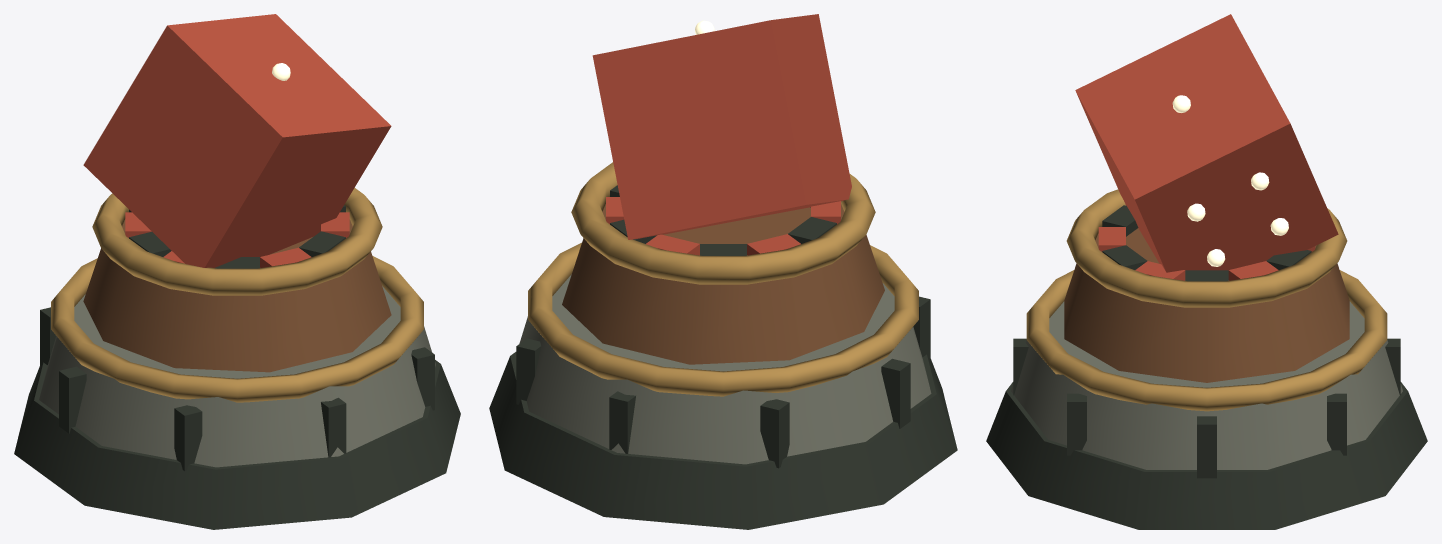
Rendered from tower_gamble_gambleHigh.glb.
3 views of the same model, side by side, from view 1: azimuth 30°, elevation 25°; view 2: azimuth 150°, elevation 25°; view 3: azimuth 270°, elevation 25° (orthographic). The views are drawn at different scales.
Parts seen in each view (by area): view 1: die_25, foot_0, stone_1, table_11, rim_2, roulette_rim_12, mortar_6, mortar_7, mortar_5, mortar_4, mortar_8, pocket_18 (+3 smaller); view 2: die_25, foot_0, table_11, stone_1, rim_2, roulette_rim_12, mortar_8, mortar_7, mortar_9, mortar_10, mortar_6, pocket_22 (+3 smaller); view 3: die_25, foot_0, stone_1, table_11, rim_2, roulette_rim_12, mortar_3, mortar_4, mortar_10, pocket_18, pocket_19, pocket_15 (+5 smaller).
Boxes of the visible parts, <box> form: die_25: <box>83,14,391,267</box>; foot_0: <box>14,360,460,529</box>; stone_1: <box>39,286,435,467</box>; table_11: <box>83,219,391,372</box>; rim_2: <box>51,256,423,402</box>; roulette_rim_12: <box>92,188,382,295</box>; mortar_6: <box>174,405,202,471</box>; mortar_7: <box>59,366,86,433</box>; mortar_5: <box>321,397,346,457</box>; mortar_4: <box>411,347,434,410</box>; mortar_8: <box>40,307,56,366</box>; pocket_18: <box>299,231,345,256</box>; die_25: <box>592,14,851,239</box>; foot_0: <box>489,352,957,529</box>; table_11: <box>562,204,884,364</box>; stone_1: <box>515,274,931,464</box>; rim_2: <box>528,242,918,396</box>; roulette_rim_12: <box>571,162,875,284</box>; mortar_8: <box>760,399,789,468</box>; mortar_7: <box>881,358,910,428</box>; mortar_9: <box>609,391,635,453</box>; mortar_10: <box>516,338,541,404</box>; mortar_6: <box>913,296,930,358</box>; pocket_22: <box>788,217,836,243</box>; die_25: <box>1075,14,1338,272</box>; foot_0: <box>986,382,1427,529</box>; stone_1: <box>1011,301,1402,469</box>; table_11: <box>1064,228,1349,382</box>; rim_2: <box>1026,270,1387,411</box>; roulette_rim_12: <box>1066,189,1347,307</box>; mortar_3: <box>1197,416,1216,478</box>; mortar_4: <box>1067,393,1086,455</box>; mortar_10: <box>1327,393,1346,455</box>; pocket_18: <box>1102,245,1147,269</box>; pocket_19: <box>1098,227,1125,251</box>; pocket_15: <box>1228,261,1278,280</box>.
Bounding box in the file's own units: 0.5326 × 0.5593 × 0.56.
